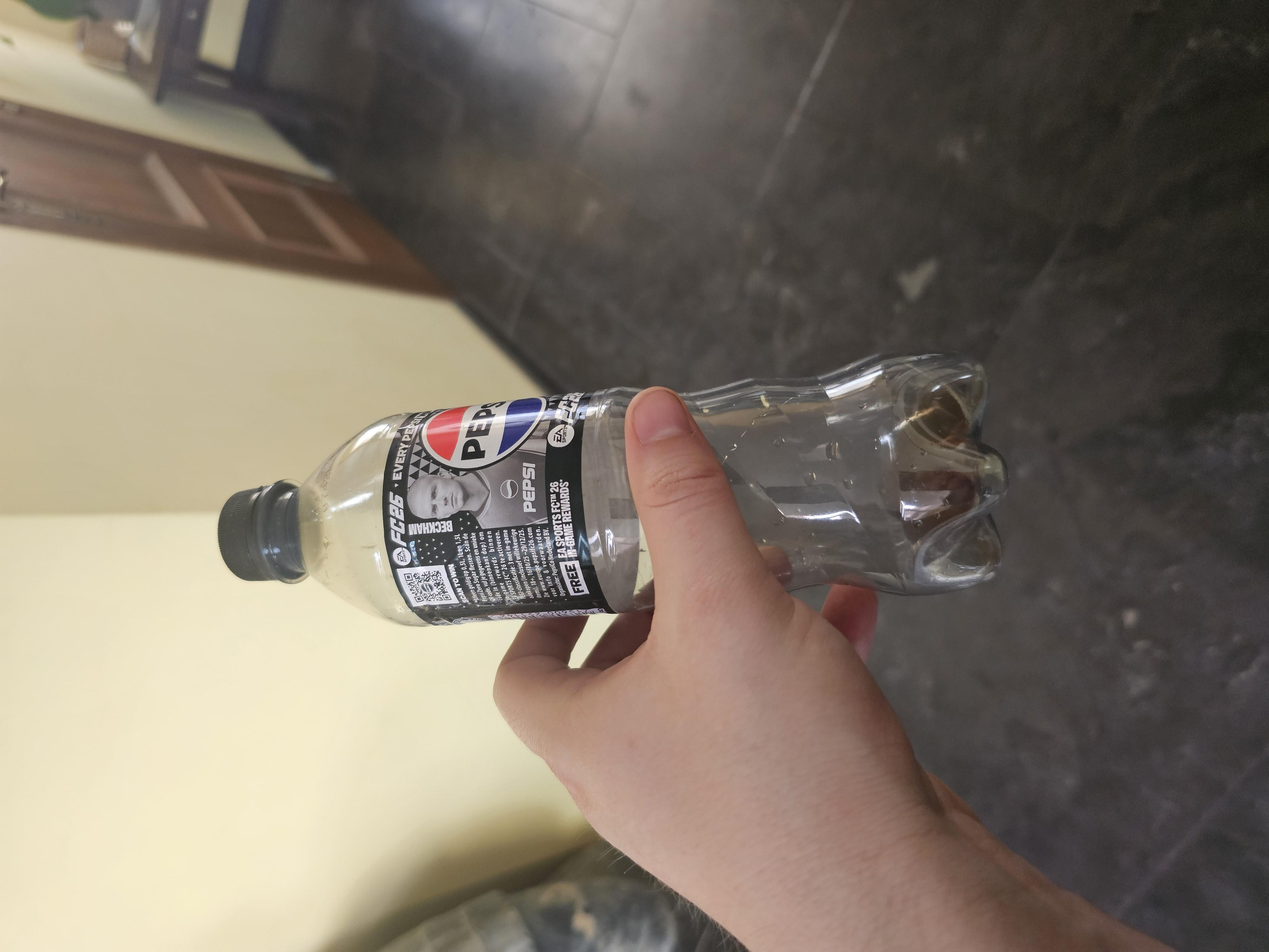Plastic: (427, 161, 828, 753)
